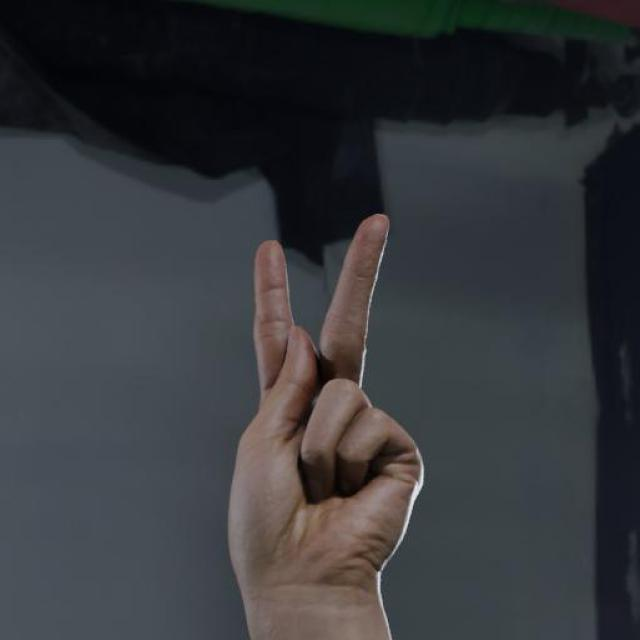K: (224, 207, 430, 607)
